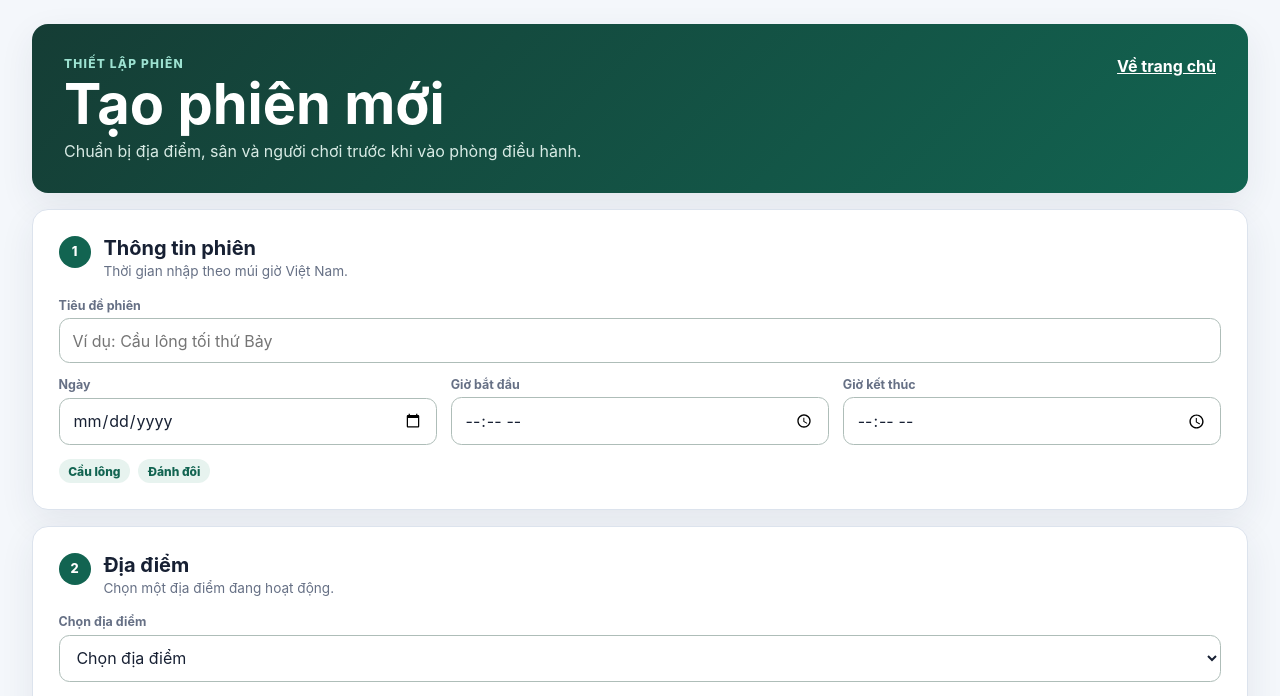
Test case: SessionSetupPage › loads a selected Venue and clears its Court selections when Venue changes
Select "Nhà thi đấu A — Quận 1" in the dropdown labelled "Chọn địa điểm": (640, 658) left=59, top=635, right=1221, bottom=682
(page scrolled)
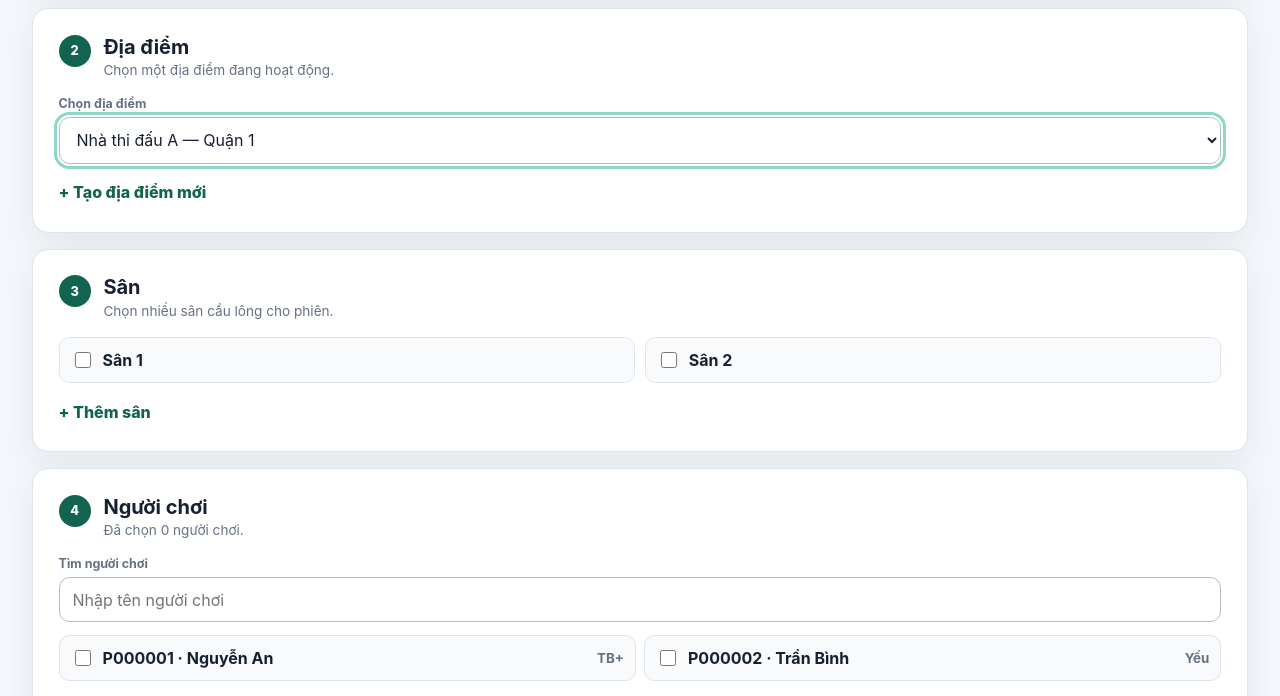
Click the checkbox labelled "Sân 1": click(83, 360) left=75, top=352, right=91, bottom=368
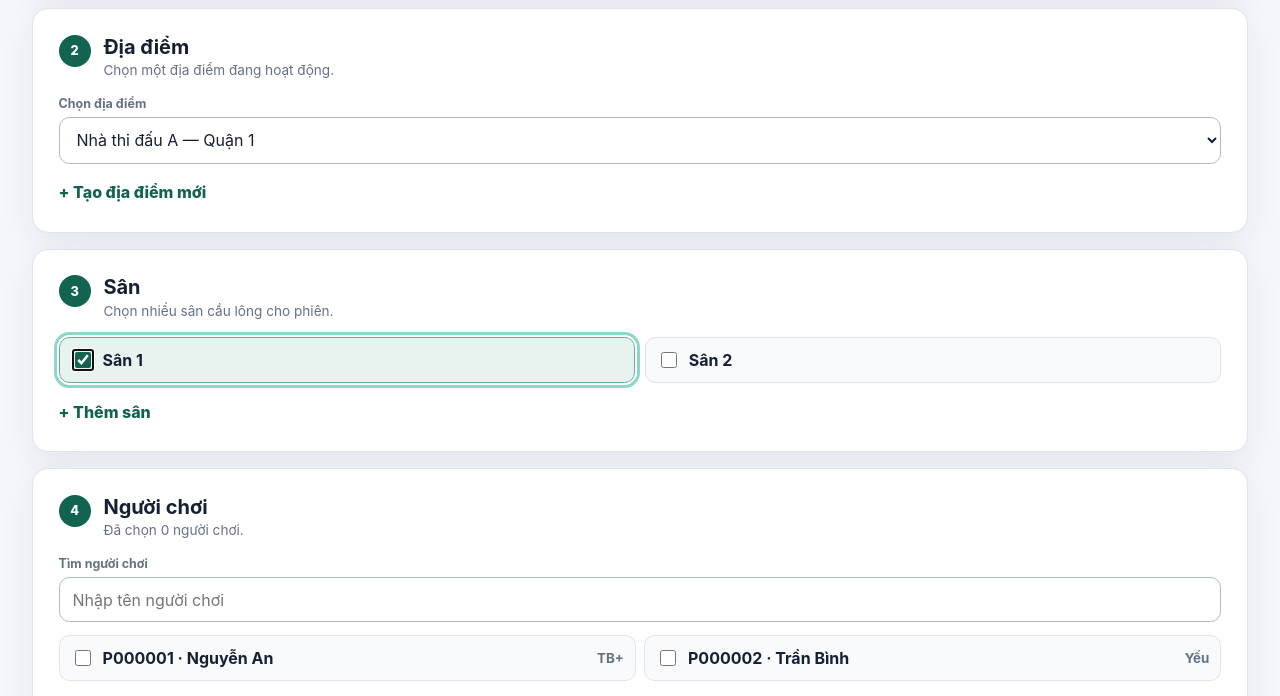
Result: the checkbox labelled "Sân 1" is checked at left=75, top=352, right=91, bottom=368
Select "Nhà thi đấu B" in the dropdown labelled "Chọn địa điểm": (640, 140) left=59, top=117, right=1221, bottom=164
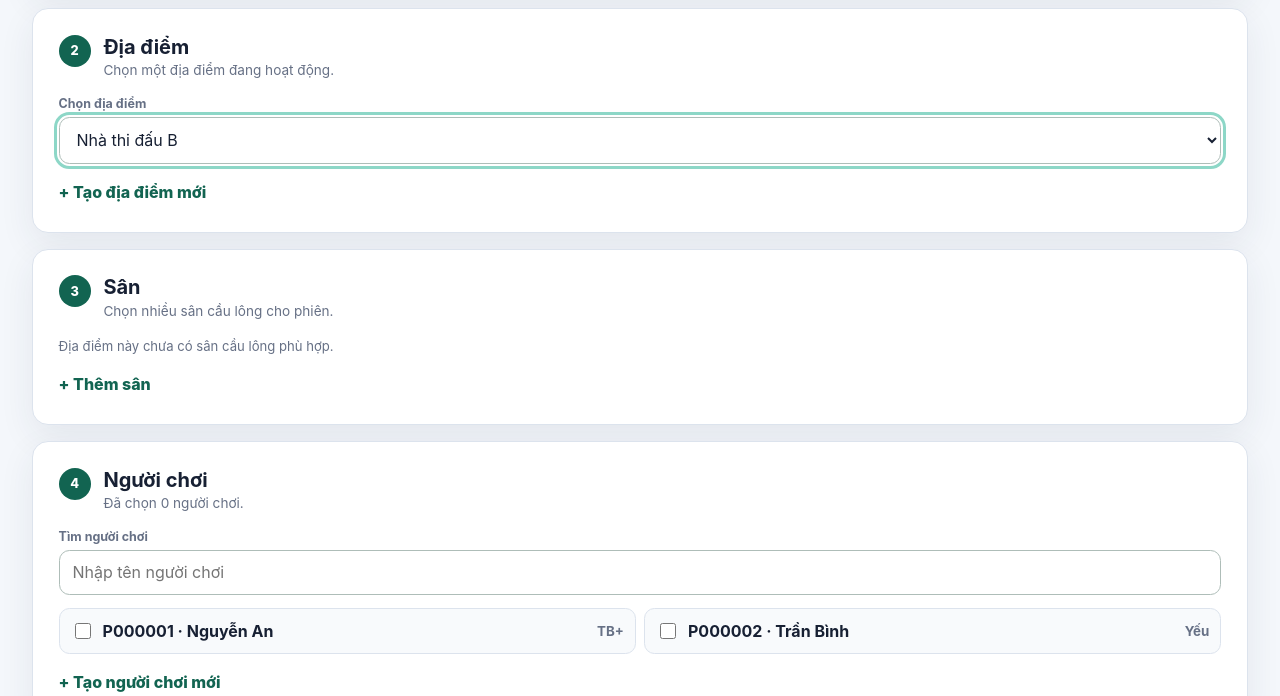
Select "Nhà thi đấu A — Quận 1" in the dropdown labelled "Chọn địa điểm": (640, 140) left=59, top=117, right=1221, bottom=164
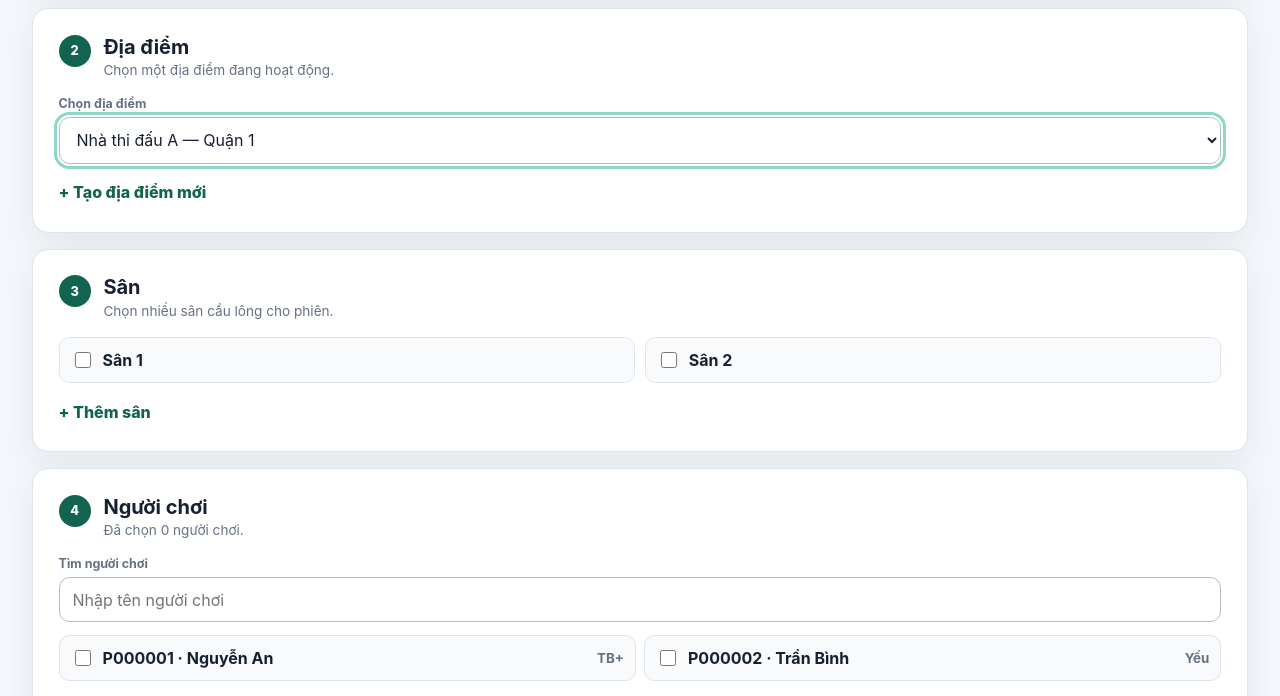
Result: the checkbox labelled "Sân 1" is not checked at left=75, top=352, right=91, bottom=368
